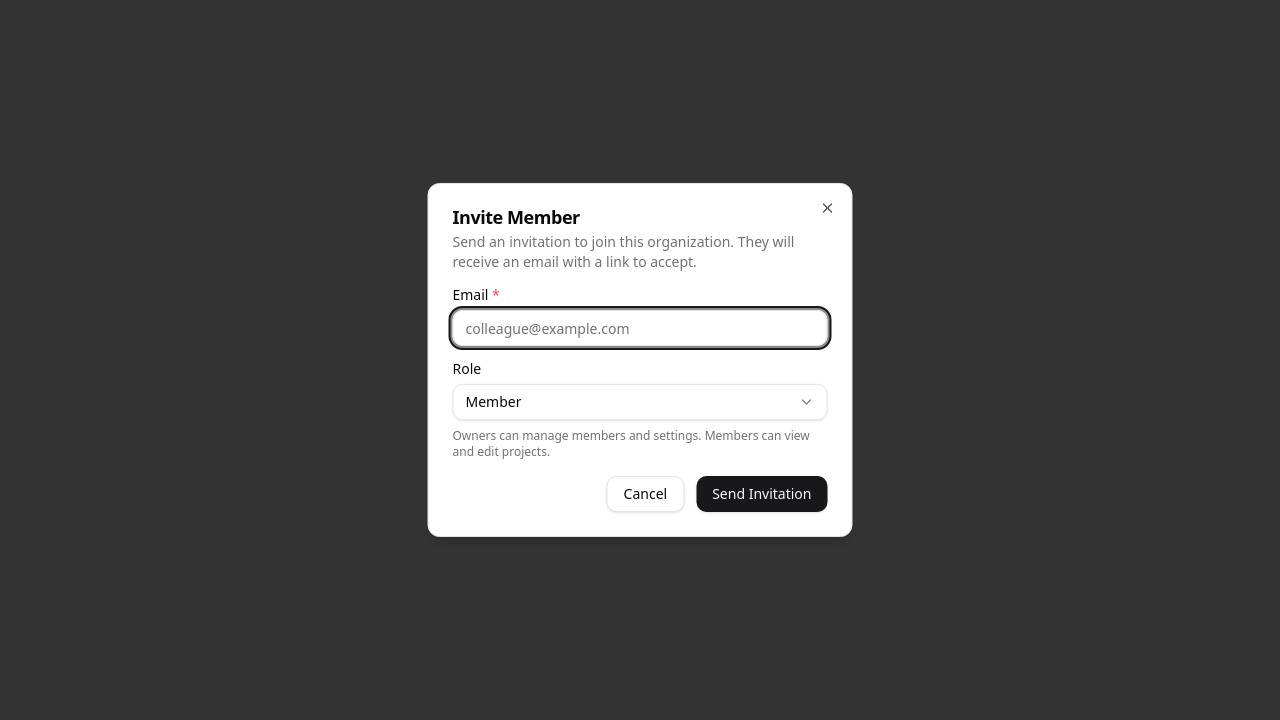
it: InviteMemberDialog › displays error message on invitation failure
In the field labelled "Email *": (640, 328) x1=452 y1=310 x2=828 y2=346, type "test@example.com"
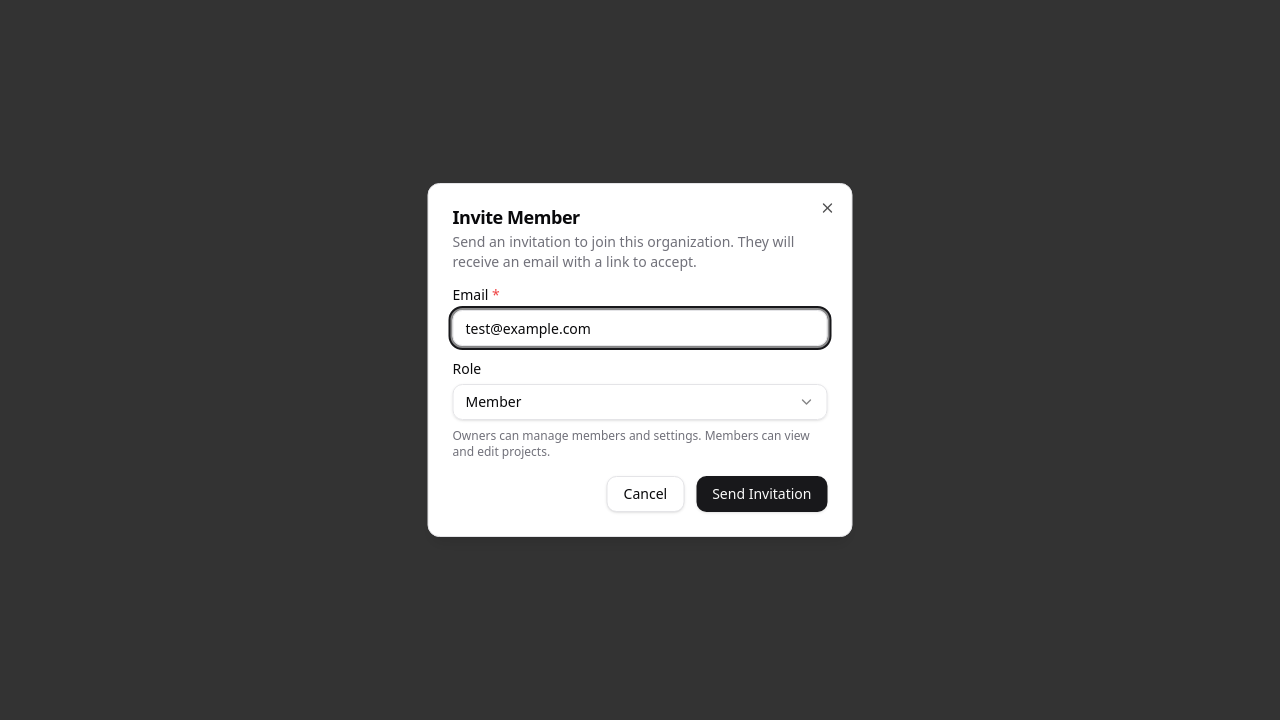
Click the button "Send Invitation": (762, 494) x1=696 y1=476 x2=828 y2=512
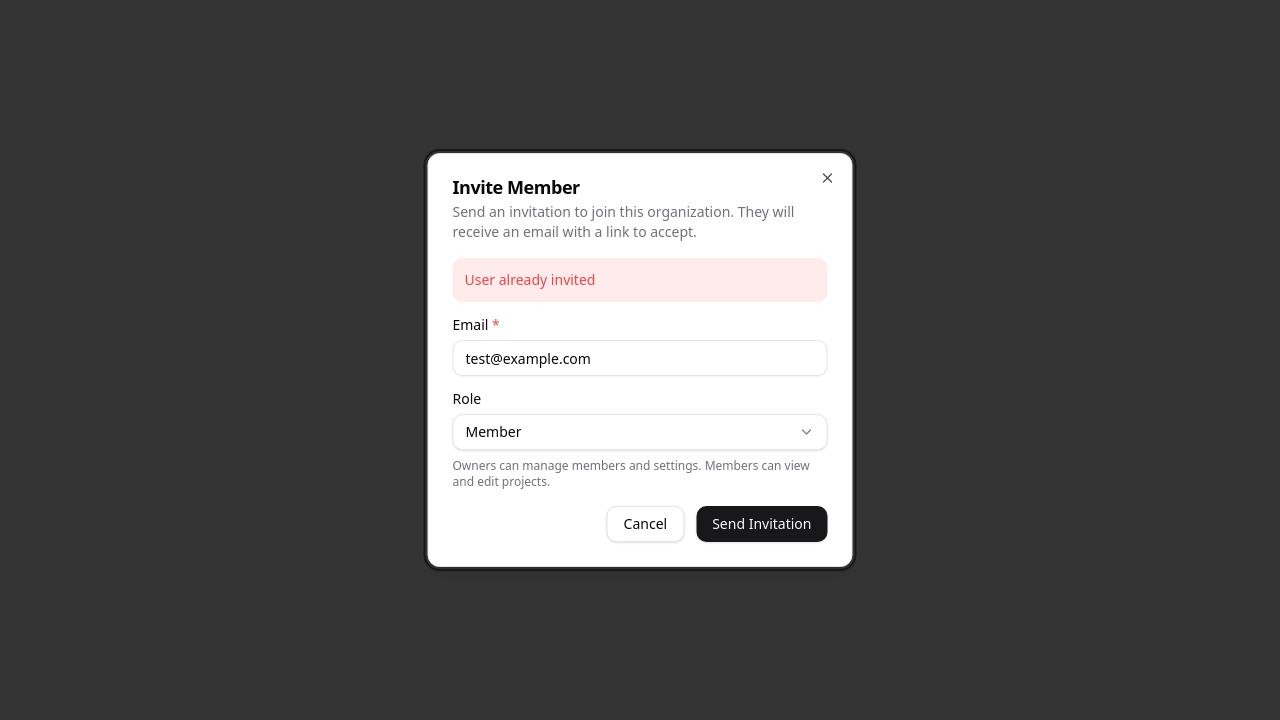
Result: the text "User already invited" is shown at x1=464 y1=270 x2=595 y2=289
